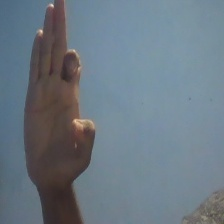F: (19, 1, 99, 188)
